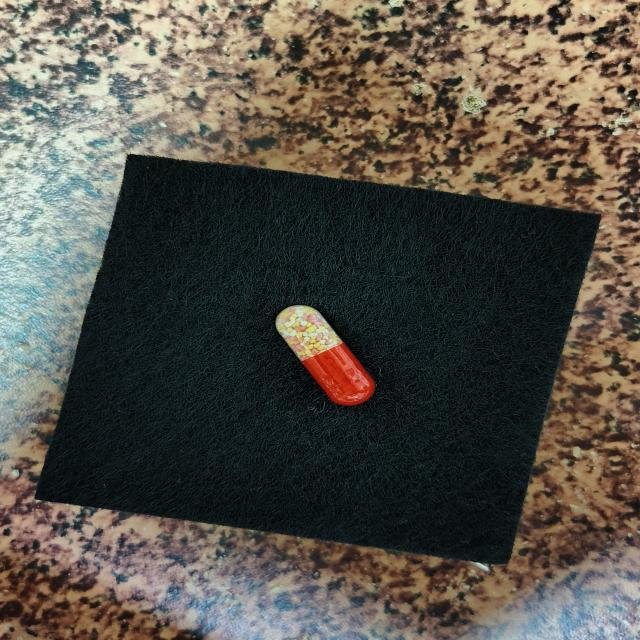Intact Capsule: (275, 305, 375, 406)
